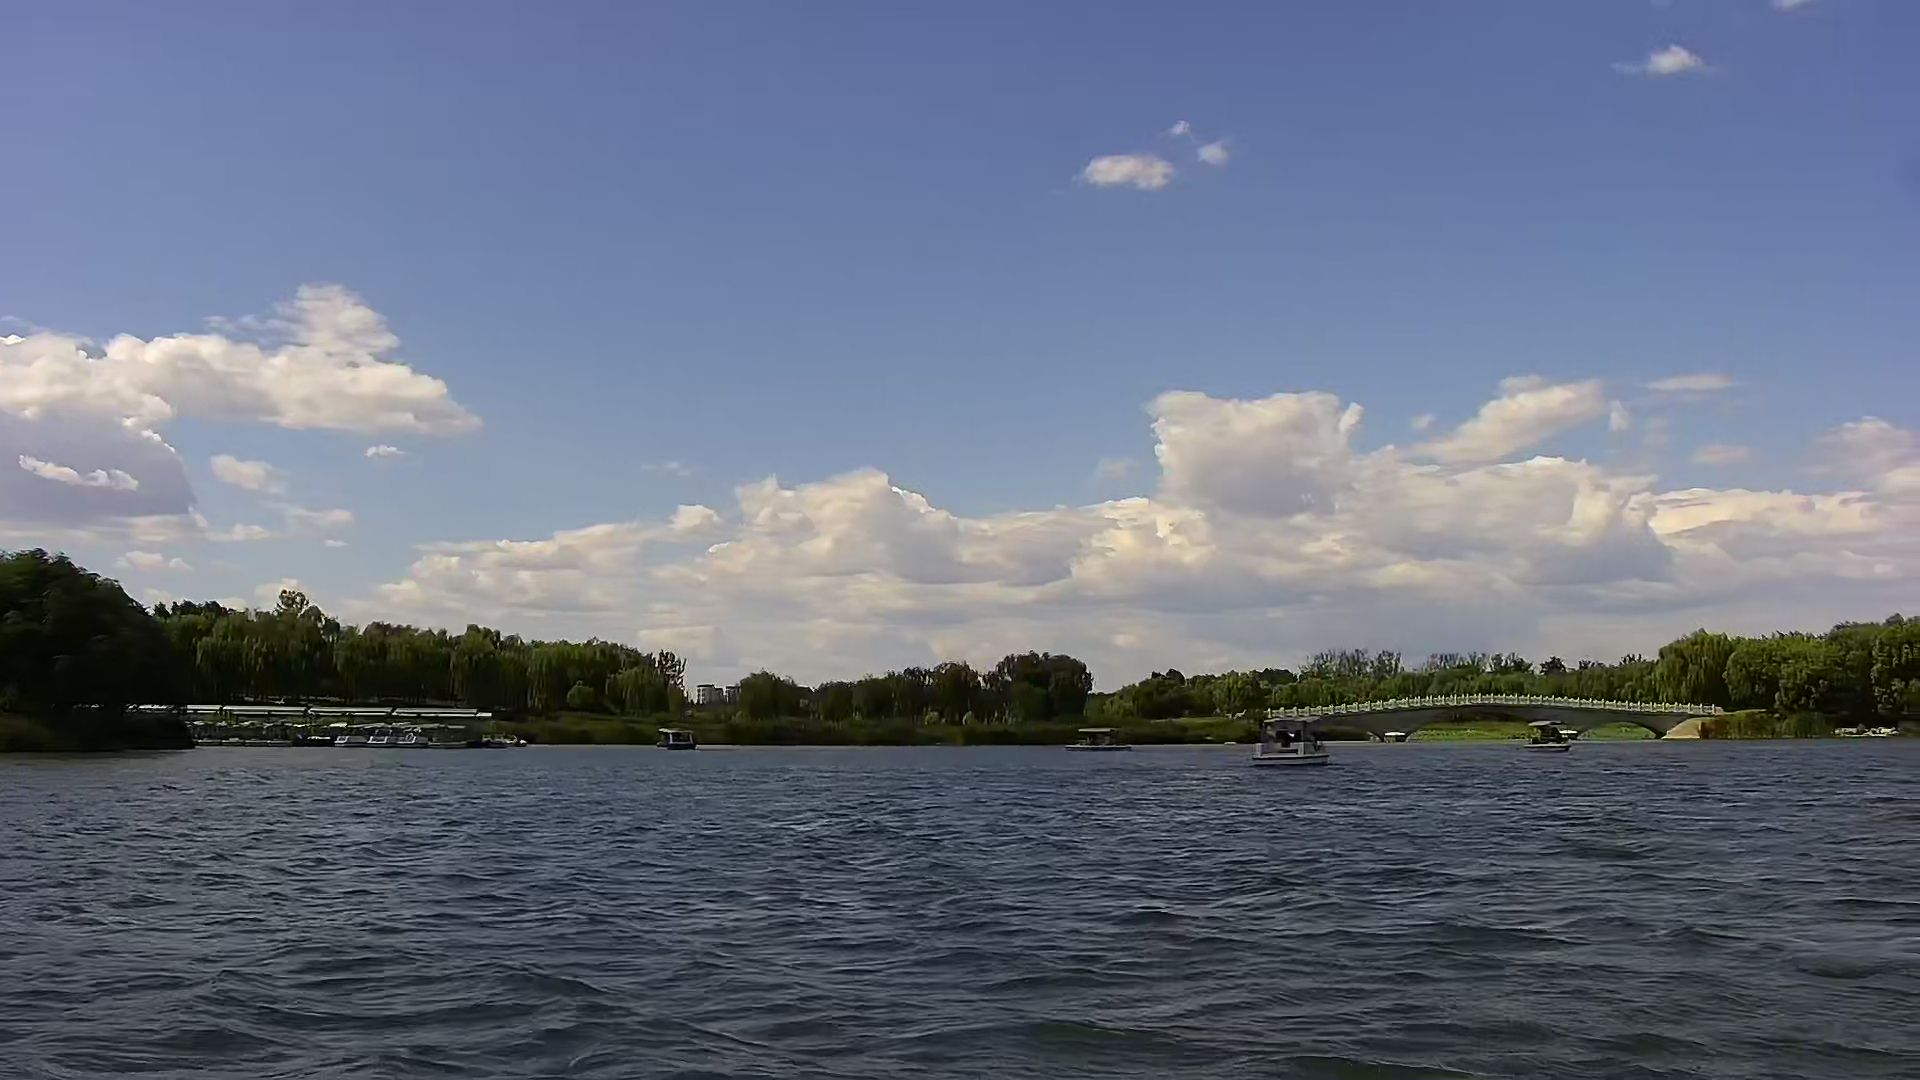boat: (1249, 709, 1325, 781), (1519, 713, 1589, 760), (1055, 720, 1139, 754), (647, 723, 711, 754)
bridge: (1237, 686, 1713, 742)
